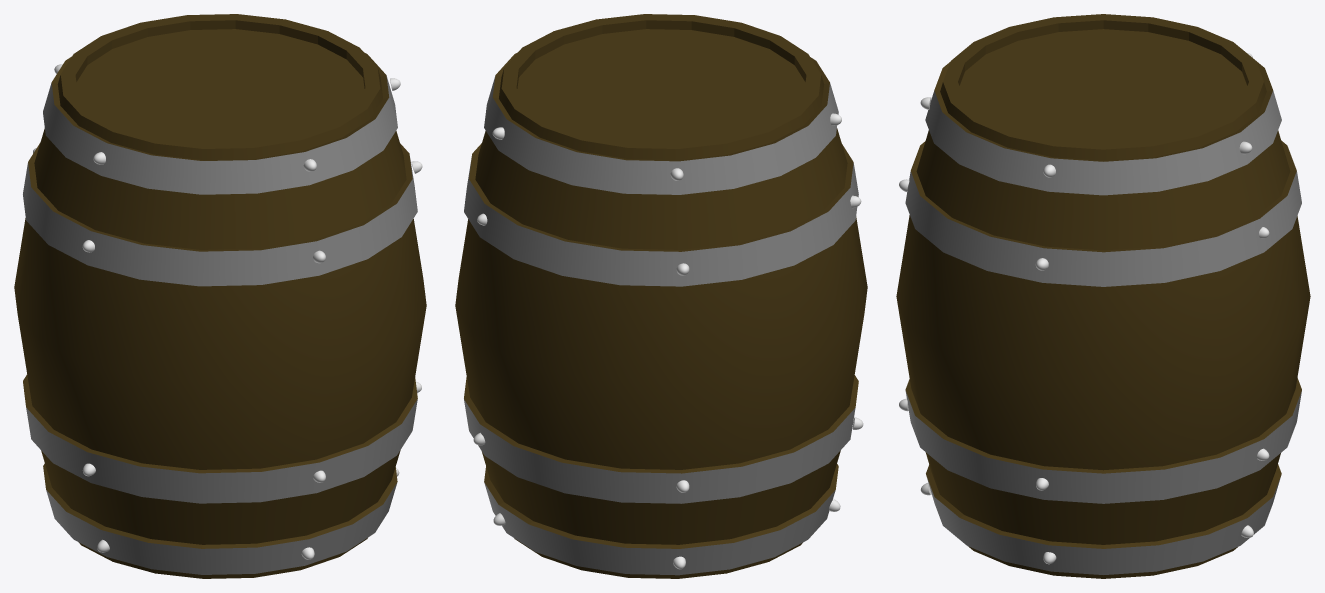
Rendered from nBarril.fbx.
3 renders of one model, left to right at view 1: azimuth 30°, elevation 25°; view 2: azimuth 150°, elevation 25°; view 3: azimuth 270°, elevation 25°, orthographic.
Parts seen in each view (by area): view 1: Cylinder001; view 2: Cylinder001; view 3: Cylinder001.
Part boxes in pixels (bbox=[...]): Cylinder001: bbox=[14, 14, 426, 578]; Cylinder001: bbox=[455, 14, 867, 578]; Cylinder001: bbox=[896, 14, 1310, 578].
Bounding box in the file's own units: 148 × 170 × 148.
